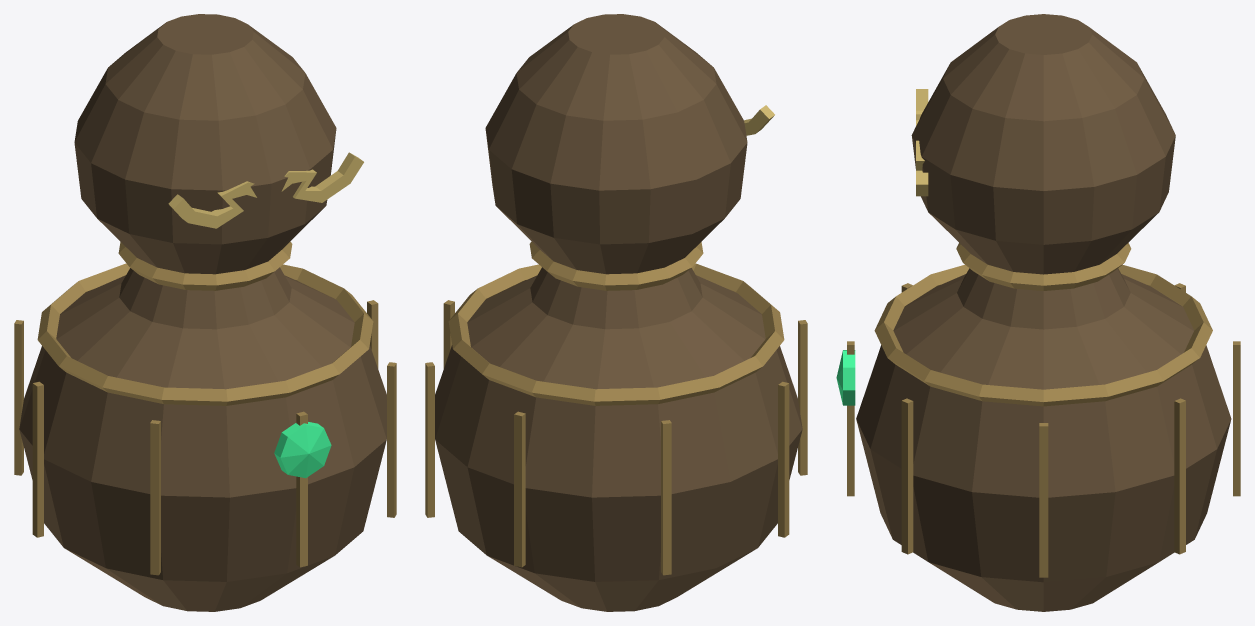
The model's file is golden_double_calabash.obj.
The picture shows the model from 3 angles, left to right: view 1: azimuth 30°, elevation 25°; view 2: azimuth 150°, elevation 25°; view 3: azimuth 270°, elevation 25°; orthographic projection.
Visible parts, largest first — view 1: golden_gourd, gold_band_-0.1, gold_band_0.16, golden_gem, gold_flute_07_lower_flute, golden_cloud_right, gold_flute_01_lower_flute_edge, golden_cloud_left, gold_flute_05_lower_flute_edge, gold_flute_06_lower_flute_edge, gold_flute_06_lower_flute, gold_flute_00_lower_flute (+1 smaller); view 2: golden_gourd, gold_band_-0.1, gold_band_0.16, gold_flute_05_lower_flute, gold_flute_03_lower_flute_edge, gold_flute_07_lower_flute_edge, gold_flute_04_lower_flute, gold_flute_06_lower_flute_edge, gold_flute_06_lower_flute, gold_flute_04_lower_flute_edge; view 3: golden_gourd, gold_band_-0.1, gold_band_0.16, gold_flute_02_lower_flute, gold_flute_04_lower_flute_edge, gold_flute_03_lower_flute, gold_flute_01_lower_flute, gold_flute_03_lower_flute_edge, gold_flute_01_lower_flute_edge, golden_gem, gold_flute_00_lower_flute_edge.
Boxes of the visible parts, bbox=[...] form: golden_gourd: bbox=[19, 14, 386, 611]; gold_band_-0.1: bbox=[37, 263, 373, 405]; gold_band_0.16: bbox=[118, 241, 292, 290]; golden_gem: bbox=[274, 422, 331, 478]; gold_flute_07_lower_flute: bbox=[150, 423, 158, 575]; golden_cloud_right: bbox=[281, 157, 363, 202]; gold_flute_01_lower_flute_edge: bbox=[387, 362, 396, 517]; golden_cloud_left: bbox=[174, 182, 256, 228]; gold_flute_05_lower_flute_edge: bbox=[14, 320, 23, 475]; gold_flute_06_lower_flute_edge: bbox=[33, 381, 43, 537]; gold_flute_06_lower_flute: bbox=[32, 383, 37, 537]; gold_flute_00_lower_flute: bbox=[300, 414, 307, 567]; golden_gourd: bbox=[435, 14, 802, 611]; gold_band_-0.1: bbox=[448, 263, 784, 405]; gold_band_0.16: bbox=[529, 241, 703, 290]; gold_flute_05_lower_flute: bbox=[663, 423, 671, 575]; gold_flute_03_lower_flute_edge: bbox=[425, 362, 434, 517]; gold_flute_07_lower_flute_edge: bbox=[798, 320, 807, 475]; gold_flute_04_lower_flute: bbox=[514, 414, 521, 567]; gold_flute_06_lower_flute_edge: bbox=[778, 381, 788, 537]; gold_flute_06_lower_flute: bbox=[784, 383, 789, 537]; gold_flute_04_lower_flute_edge: bbox=[514, 411, 525, 567]; golden_gourd: bbox=[856, 14, 1231, 611]; gold_band_-0.1: bbox=[874, 264, 1212, 406]; gold_band_0.16: bbox=[956, 243, 1131, 290]; gold_flute_02_lower_flute: bbox=[1039, 426, 1048, 577]; gold_flute_04_lower_flute_edge: bbox=[1233, 341, 1240, 496]; gold_flute_03_lower_flute: bbox=[1179, 401, 1185, 554]; gold_flute_01_lower_flute: bbox=[901, 401, 907, 554]; gold_flute_03_lower_flute_edge: bbox=[1174, 398, 1185, 554]; gold_flute_01_lower_flute_edge: bbox=[902, 398, 913, 554]; golden_gem: bbox=[836, 350, 855, 405]; gold_flute_00_lower_flute_edge: bbox=[847, 341, 854, 496].
Bounding box in the file's own units: 1.13 × 1.74 × 1.16.
